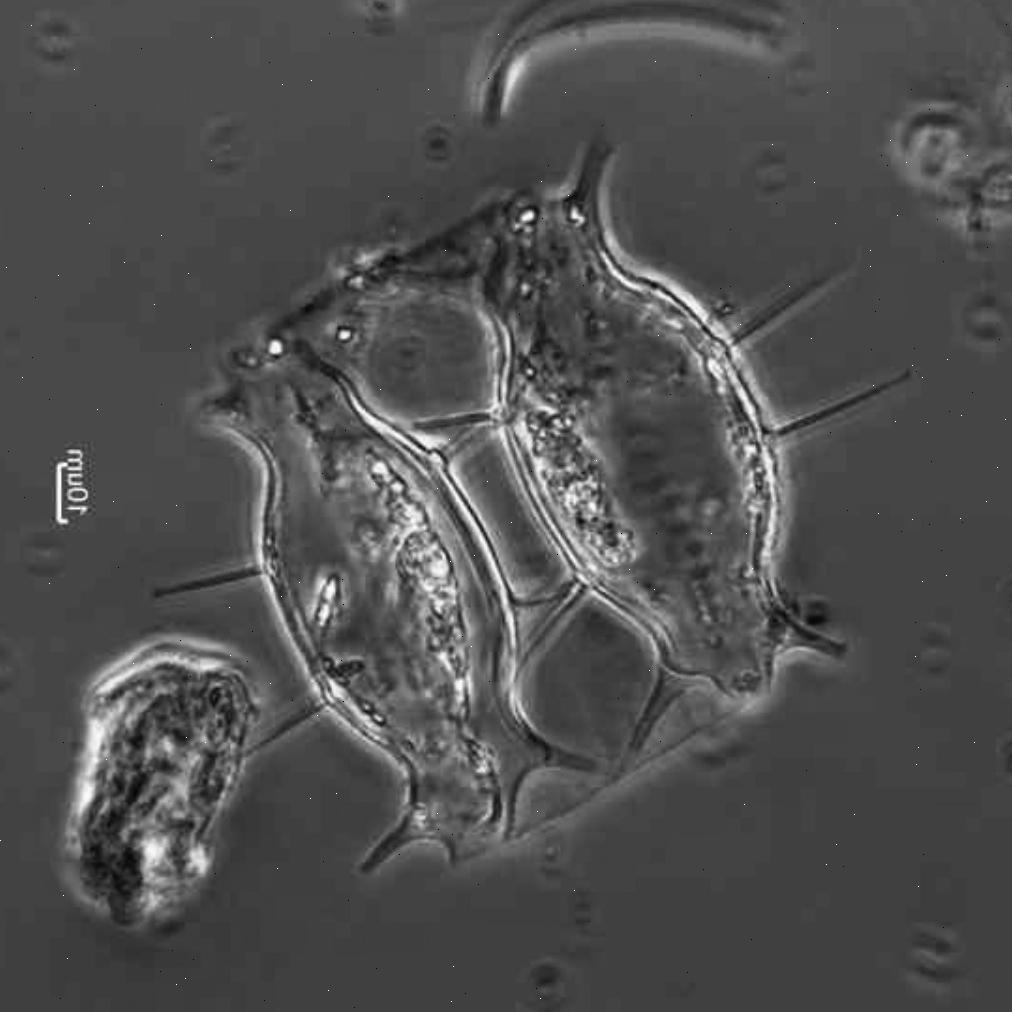odontella_mobiliensis: (140, 252, 601, 883)
